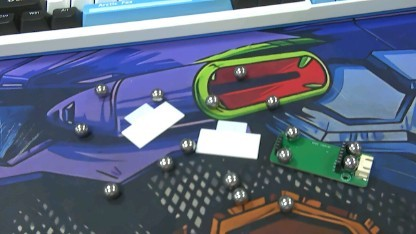ironball: (198, 89, 222, 109), (89, 80, 112, 99), (179, 134, 197, 156), (274, 193, 293, 211), (230, 187, 251, 203), (219, 168, 240, 184), (281, 123, 298, 141), (72, 120, 89, 138), (276, 145, 292, 163), (340, 154, 355, 173), (153, 155, 172, 170), (103, 181, 119, 198), (147, 87, 164, 103), (231, 65, 248, 80), (263, 94, 281, 108), (346, 141, 360, 153)
